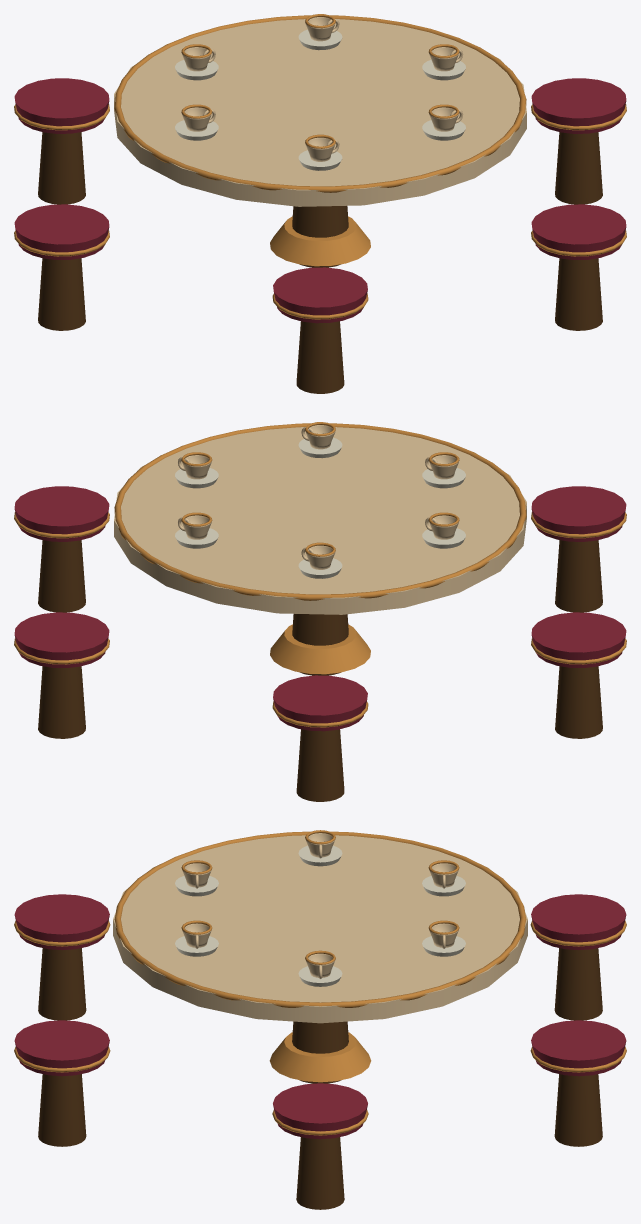
The model's file is mia-tea_table.glb.
3 renders of one model, top to bottom at view 1: azimuth 30°, elevation 25°; view 2: azimuth 150°, elevation 25°; view 3: azimuth 270°, elevation 25°, orthographic.
Visible parts, largest first — view 1: Body_ivory, Body_velvet, Body_wood, Body_brass, Body_mattress; view 2: Body_ivory, Body_velvet, Body_wood, Body_brass, Body_mattress; view 3: Body_ivory, Body_velvet, Body_wood, Body_brass, Body_mattress.
Part boxes in pixels (<box>): Body_ivory: <box>114,17,526,206</box>; Body_velvet: <box>14,78,626,323</box>; Body_wood: <box>38,132,602,393</box>; Body_brass: <box>14,14,626,319</box>; Body_mattress: <box>175,29,465,170</box>; Body_ivory: <box>114,425,526,614</box>; Body_velvet: <box>14,486,626,731</box>; Body_wood: <box>38,540,602,801</box>; Body_brass: <box>14,422,626,727</box>; Body_mattress: <box>175,437,465,578</box>; Body_ivory: <box>113,833,527,1023</box>; Body_velvet: <box>14,894,626,1139</box>; Body_wood: <box>38,948,602,1209</box>; Body_brass: <box>14,830,626,1135</box>; Body_mattress: <box>175,845,465,986</box>.
Bounding box in the file's own units: 2.67 × 0.7537 × 2.36.
